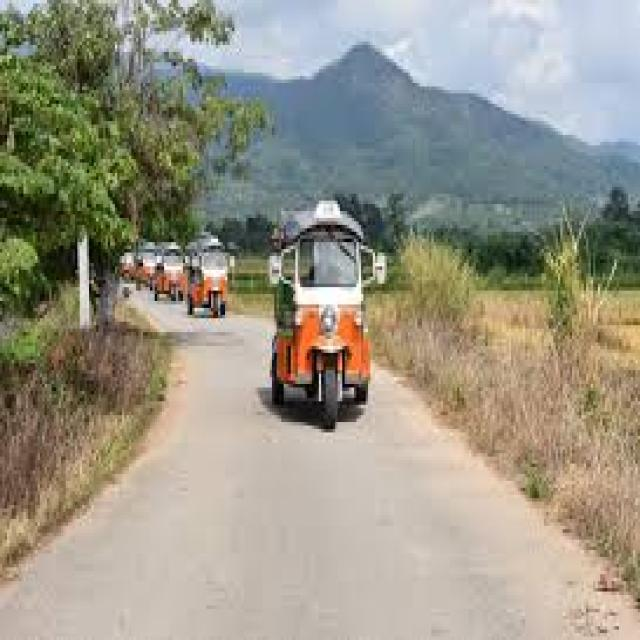tuktuk: (250, 123, 400, 470), (177, 222, 238, 354)
